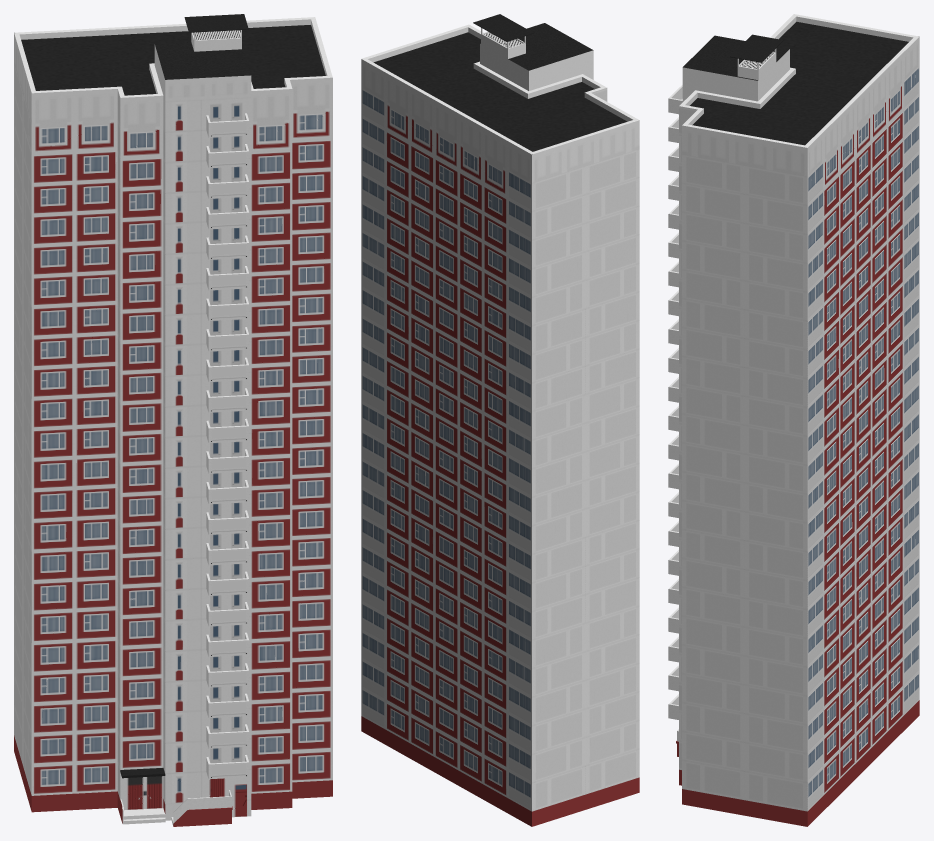
The model's file is dom2.glb.
The picture shows the model from 3 angles, left to right: view 1: azimuth 30°, elevation 25°; view 2: azimuth 150°, elevation 25°; view 3: azimuth 270°, elevation 25°; orthographic projection. The views are drawn at different scales.
Parts seen in each view (by area): view 1: instance_0.021; view 2: instance_0.021; view 3: instance_0.021.
Boxes of the visible parts, x1,y1,x2,y2 form: instance_0.021: [14, 14, 332, 826]; instance_0.021: [361, 14, 639, 826]; instance_0.021: [668, 14, 919, 826].
Size of the model in its own units: 13.28 by 33.31 by 10.52.
Materials: 1 (1 with a texture image).
